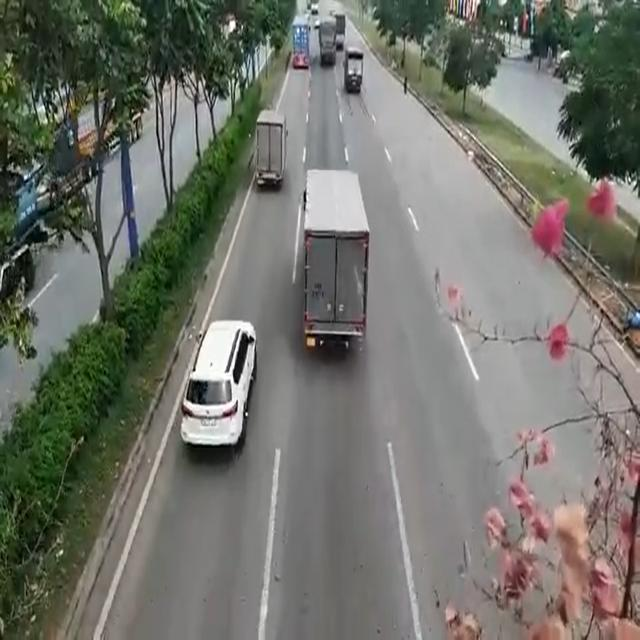car: (189, 319, 246, 447)
truck: (303, 172, 367, 350), (256, 109, 288, 190), (344, 42, 363, 94), (319, 18, 337, 66), (292, 18, 306, 78)
